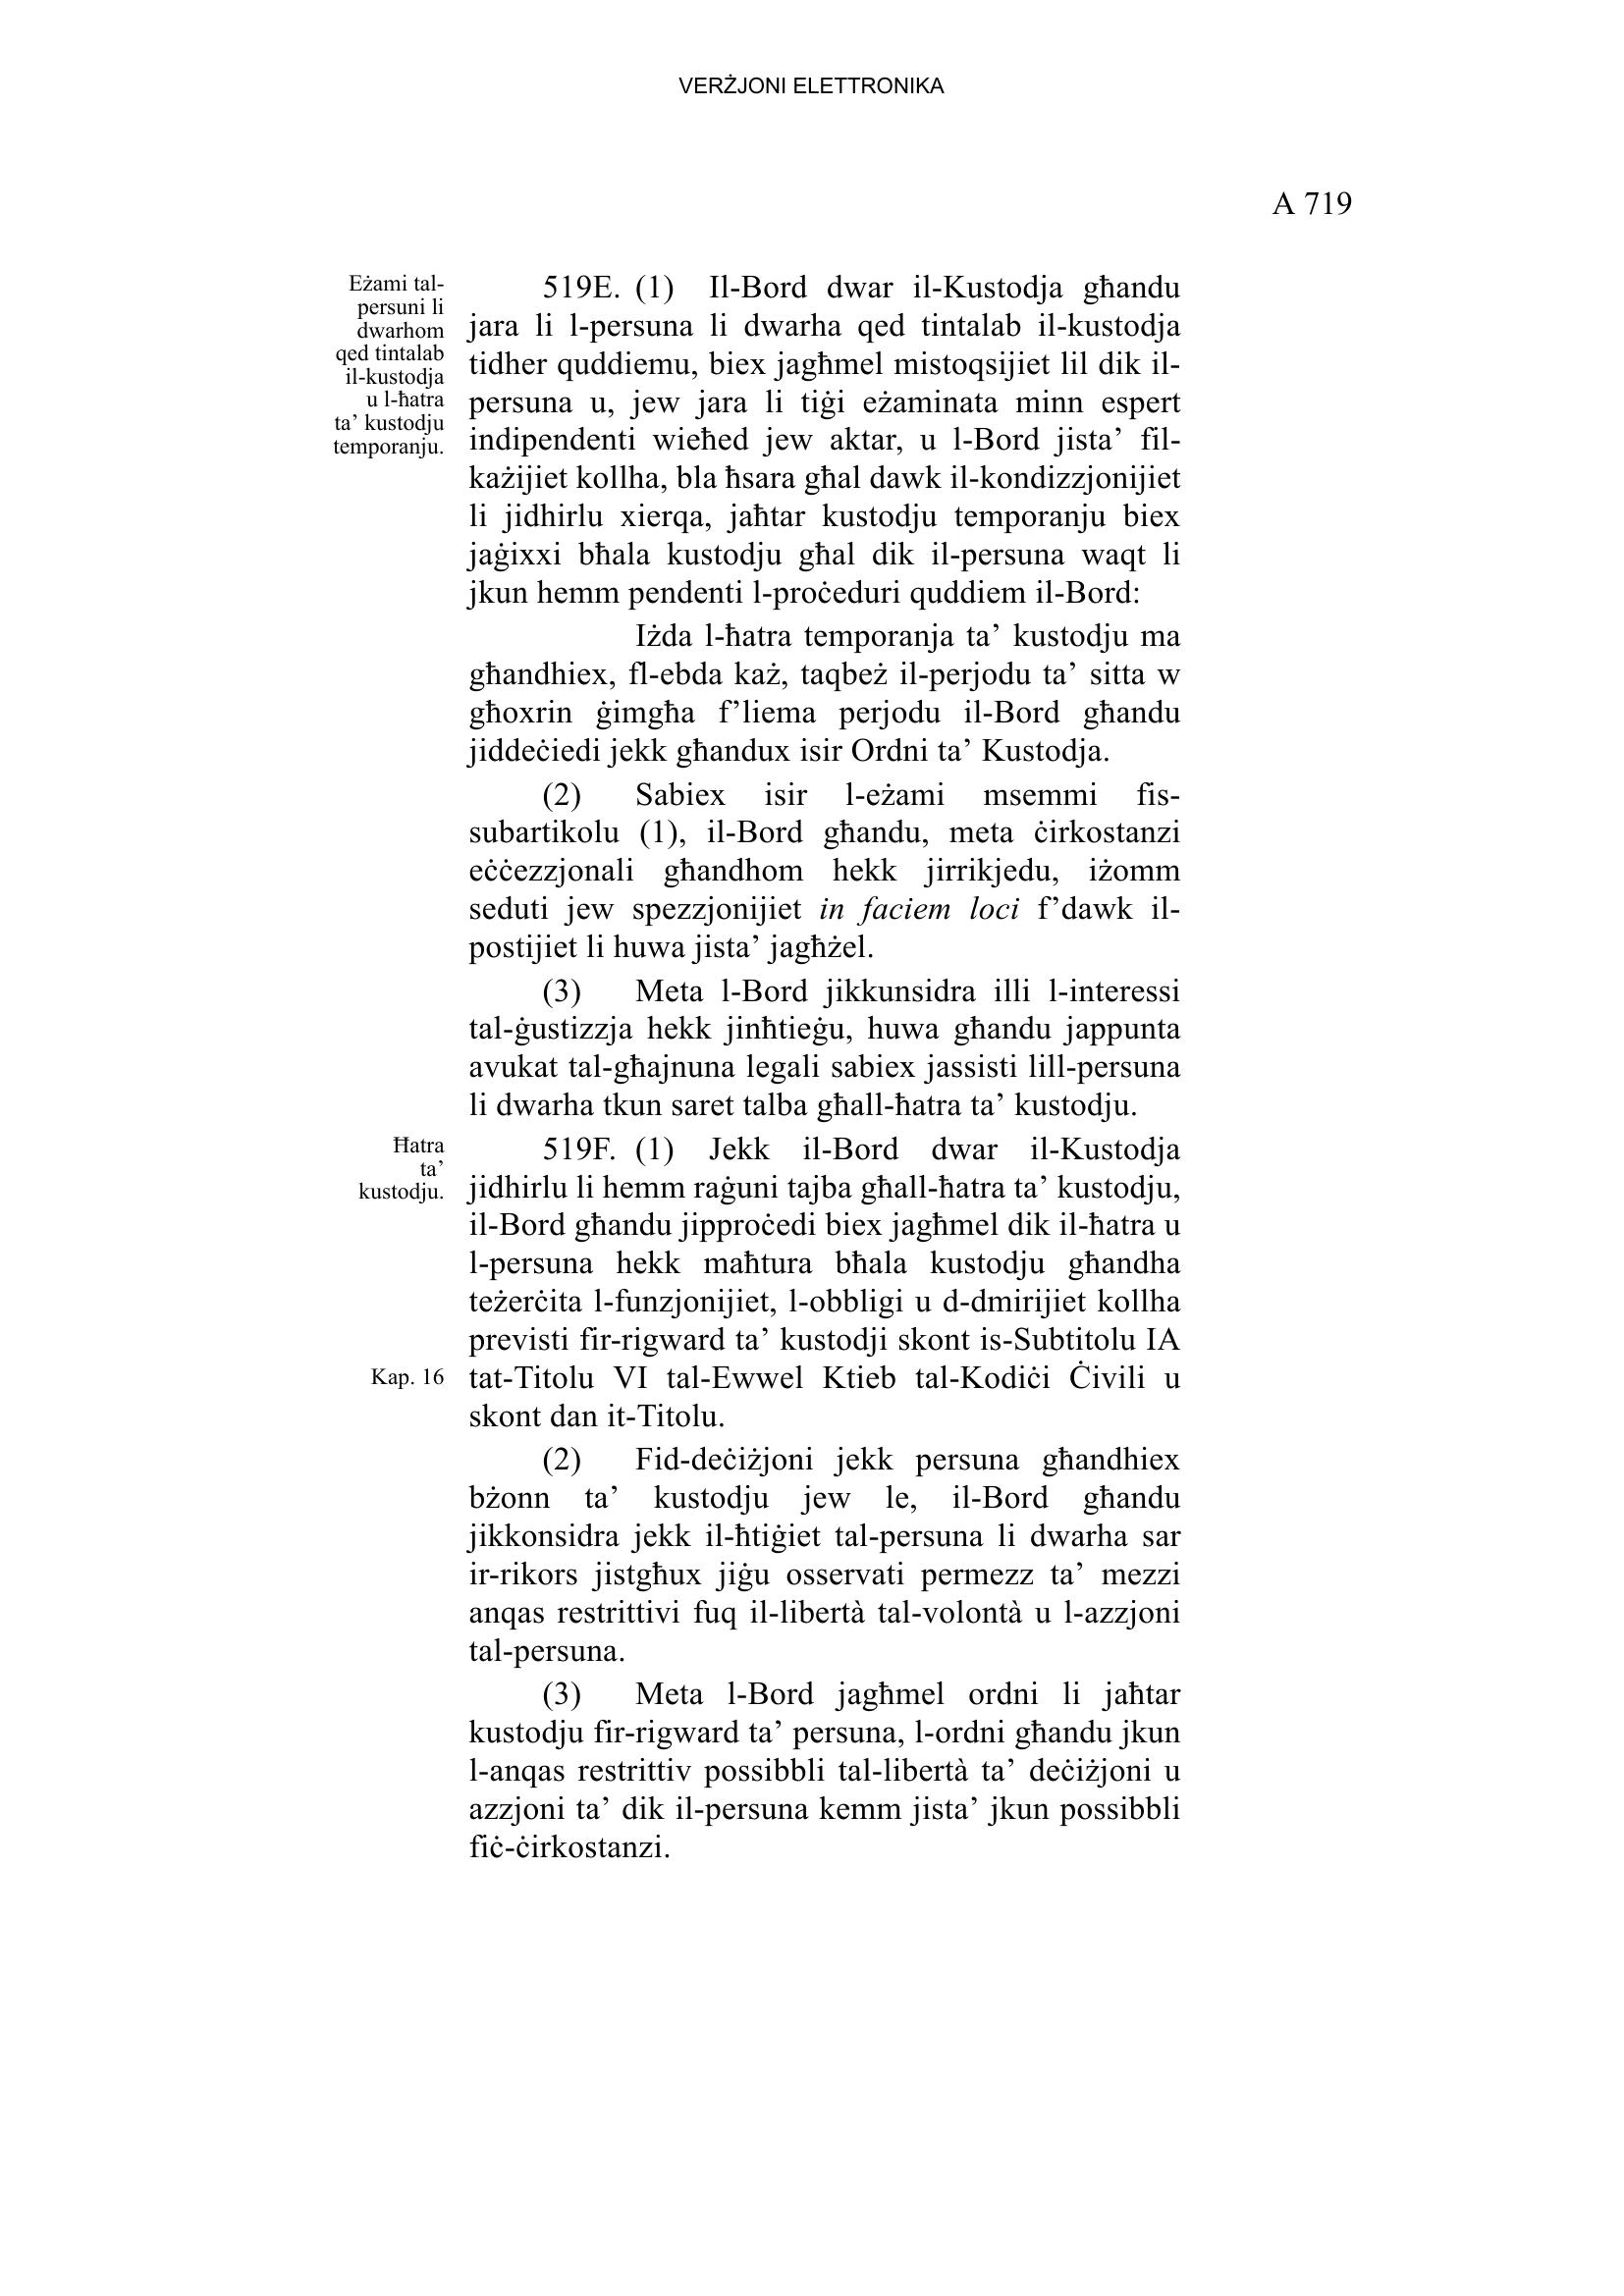text: (457, 267, 1200, 1876)
